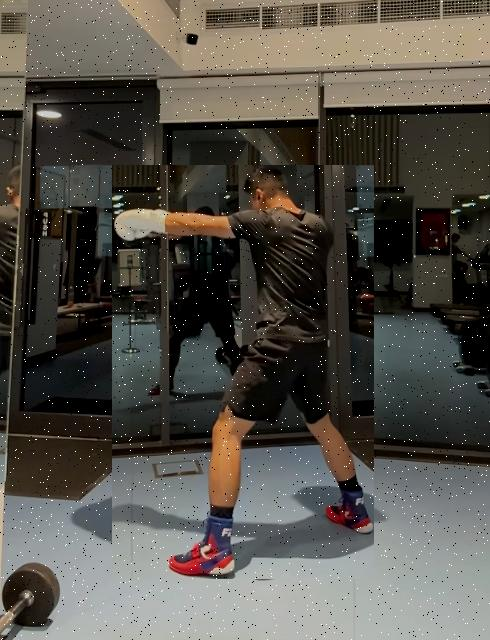punch: (112, 165, 374, 579)
